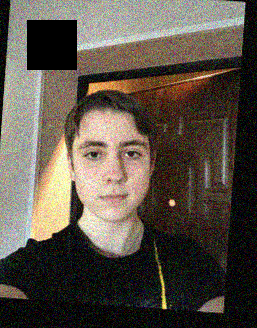without_mask: (70, 135, 149, 223)
